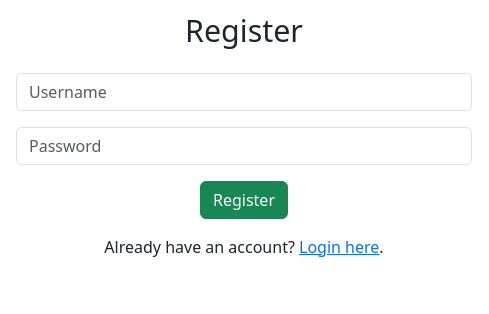
Test case: Register Component › should display error if password is less than 8 characters
Step 1. Type "testuser" into the field with test id "username-input" → {"x": 244, "y": 92}, box [16,72,472,110]
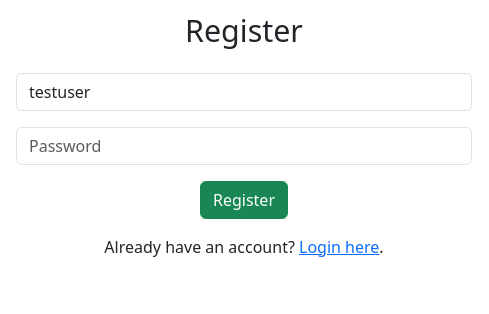
Step 2. Type "short" into the password field with test id "password-input" → {"x": 244, "y": 146}, box [16,126,472,164]
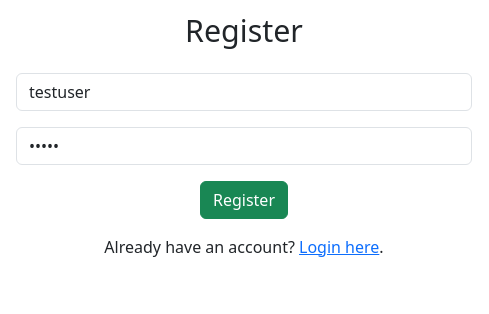
Step 3. Click the button "Register" → {"x": 244, "y": 200}, box [200,180,288,218]
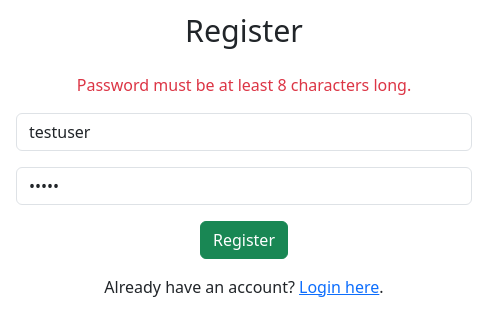
expect the text "Password must be at least 8 characters long." is shown: met, box [77,74,411,96]
